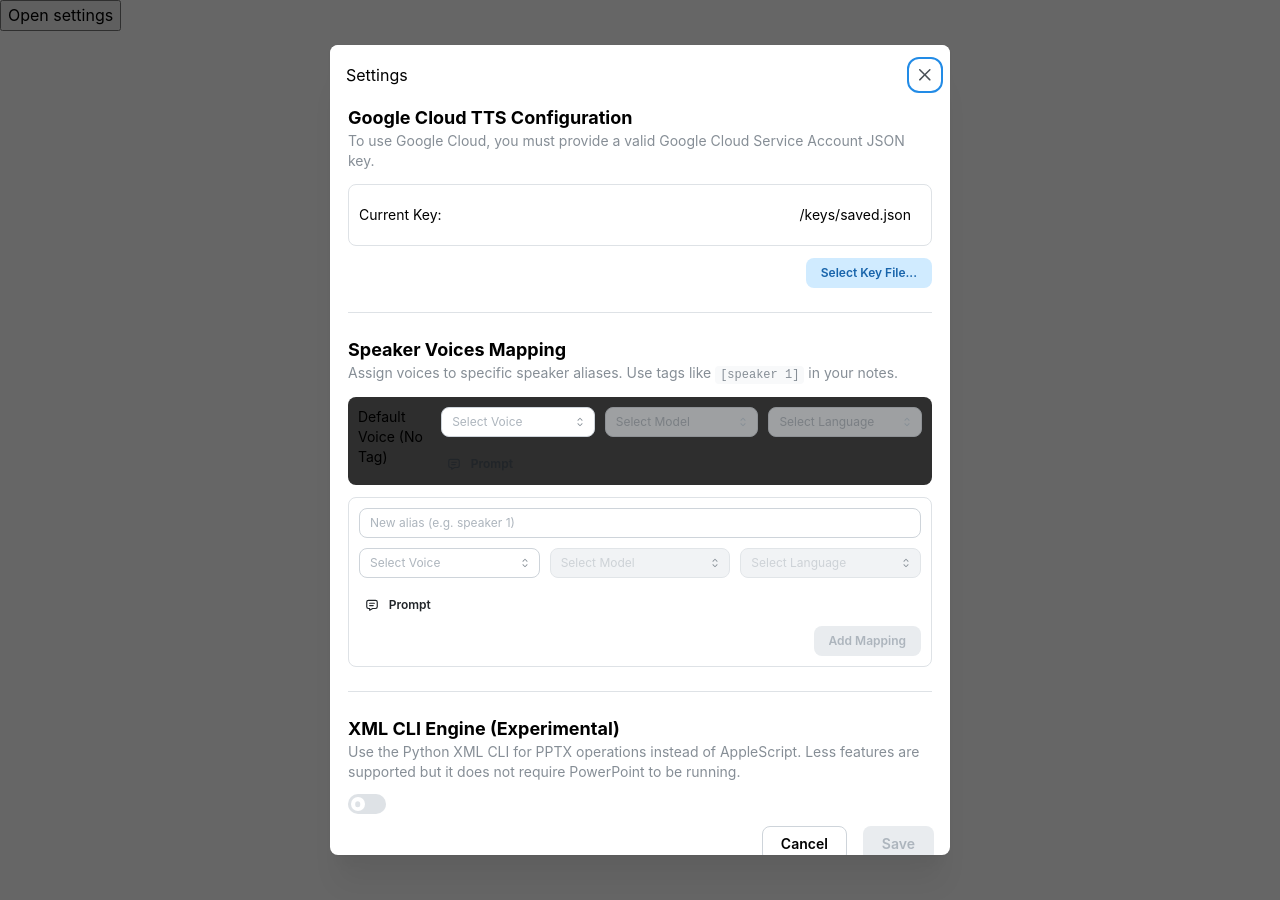
Test: refuses the reserved default speaker key as a new alias
The width and height of the screenshot is (1280, 900).
Step 1. Type "_default_" into the field with placeholder "New alias (e.g. speaker 1)" → (640, 523), box [359,508,921,538]
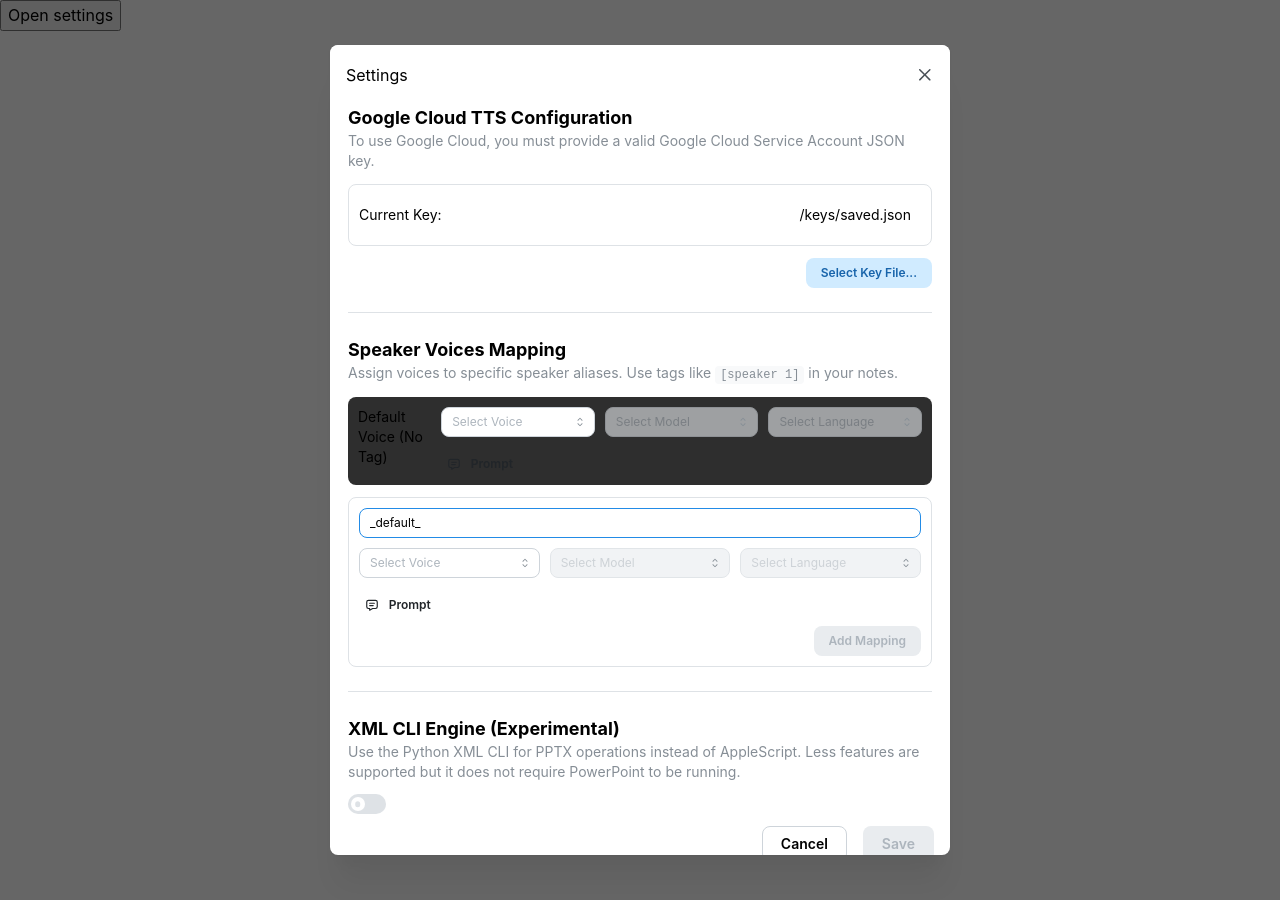
Step 2. Click the dropdown named "Voice for new speaker" → (449, 563), box [359,548,540,578]
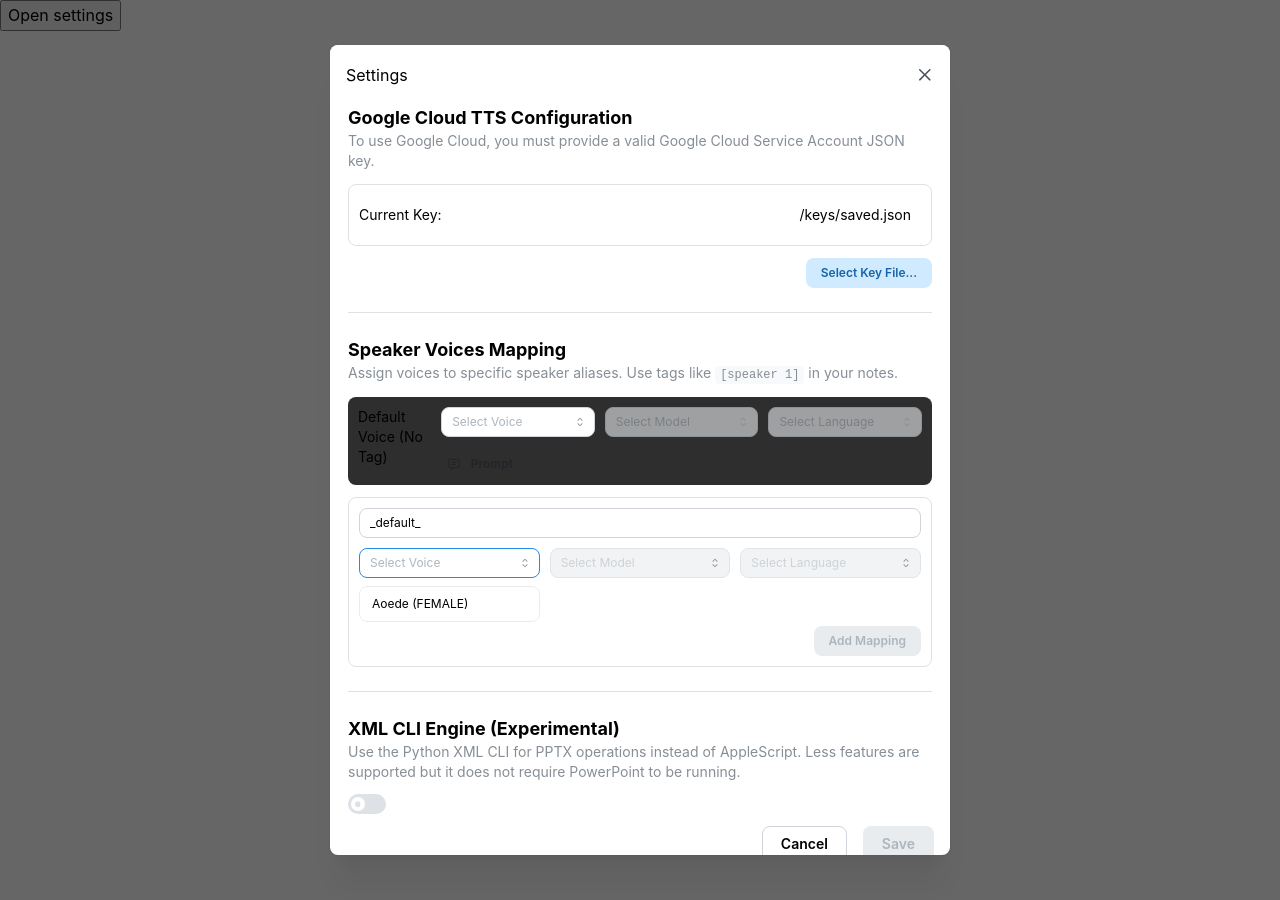
Step 3. Click the option "Aoede (FEMALE)" → (420, 603), box [372,596,468,611]
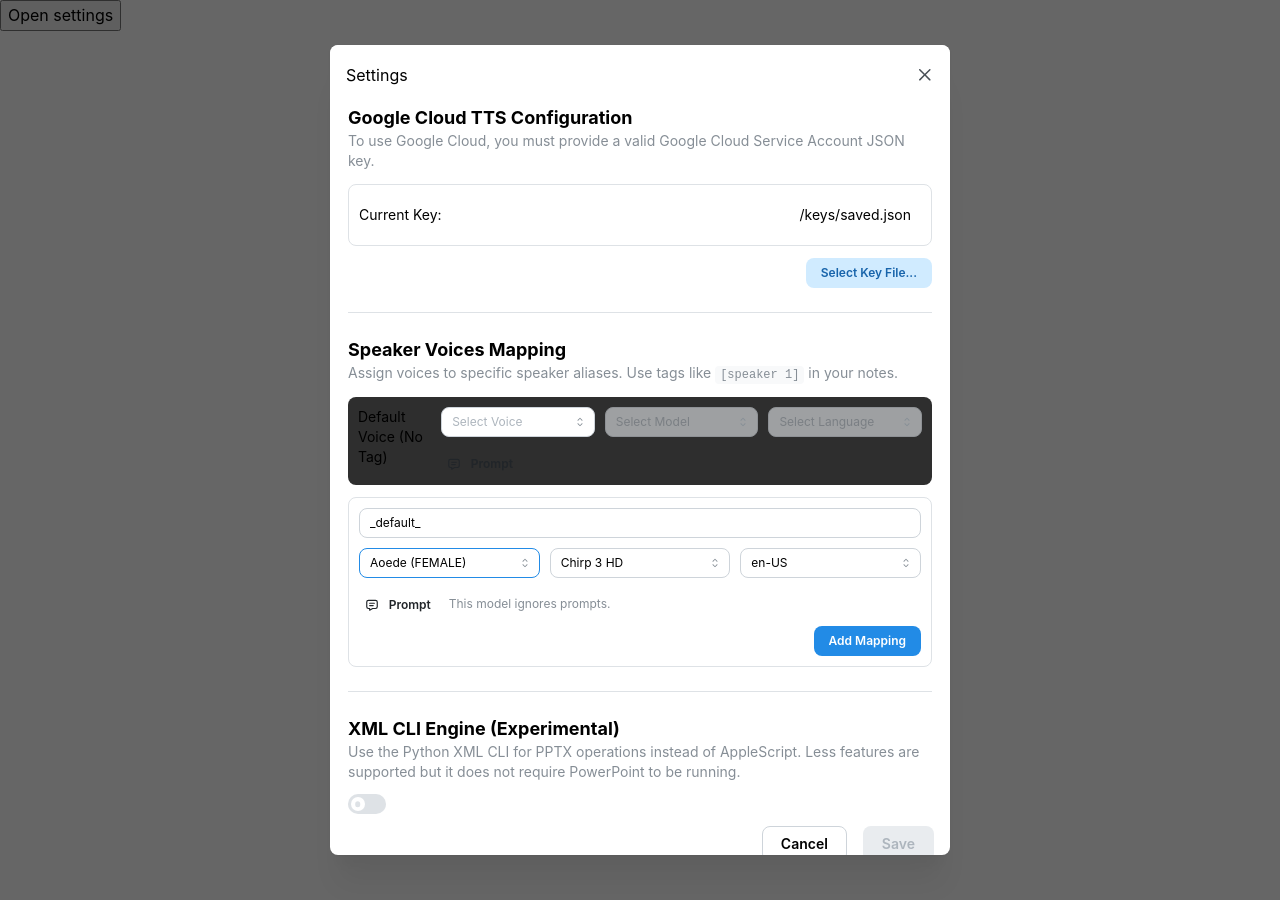
Step 4. Click the button "Add Mapping" → (867, 641), box [814,626,921,656]
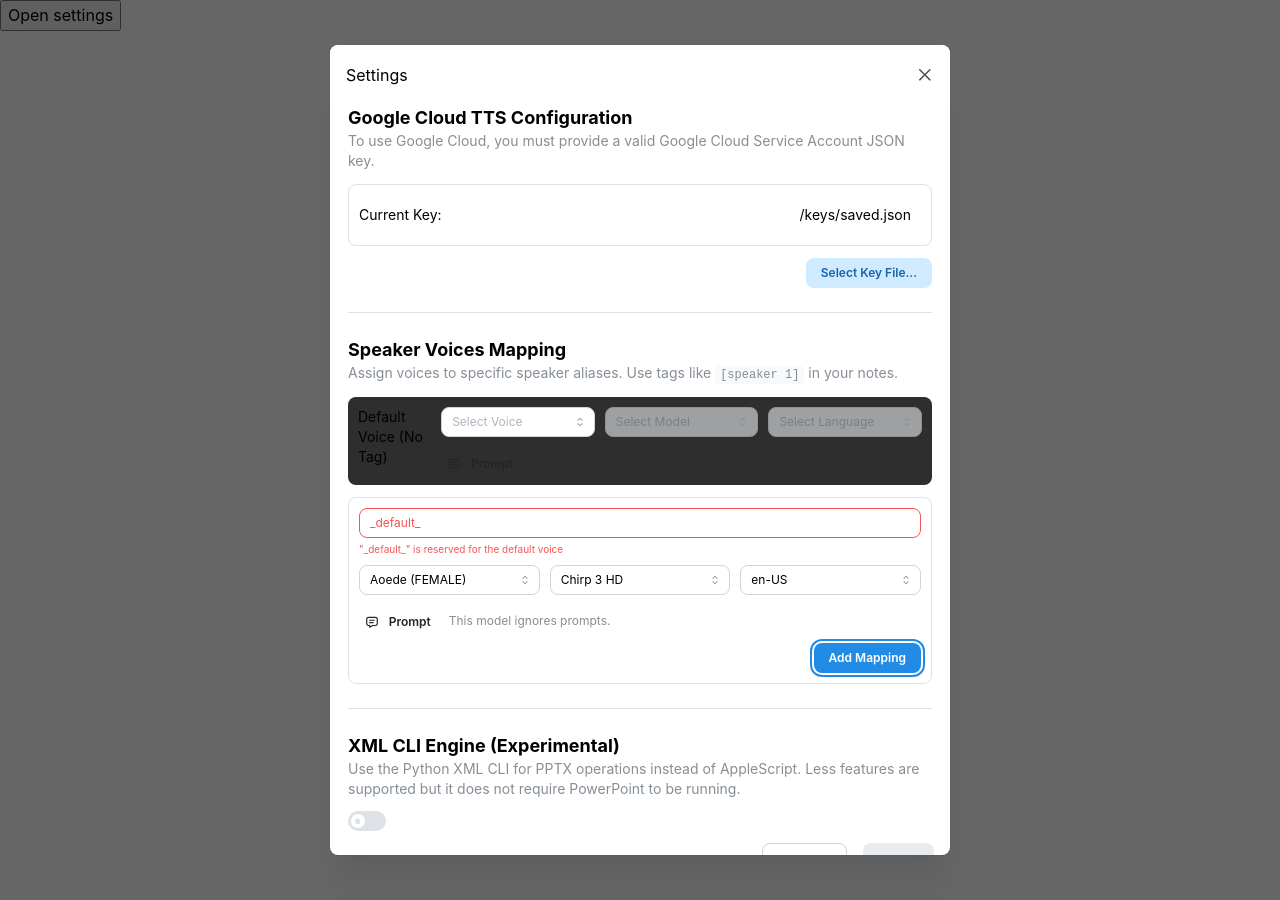
Expected: the dropdown named "Voice for Default" is empty, [441,407,595,437]
Expected: the text "\"_default_\" is reserved for the default voice" is shown, [359,543,563,555]
